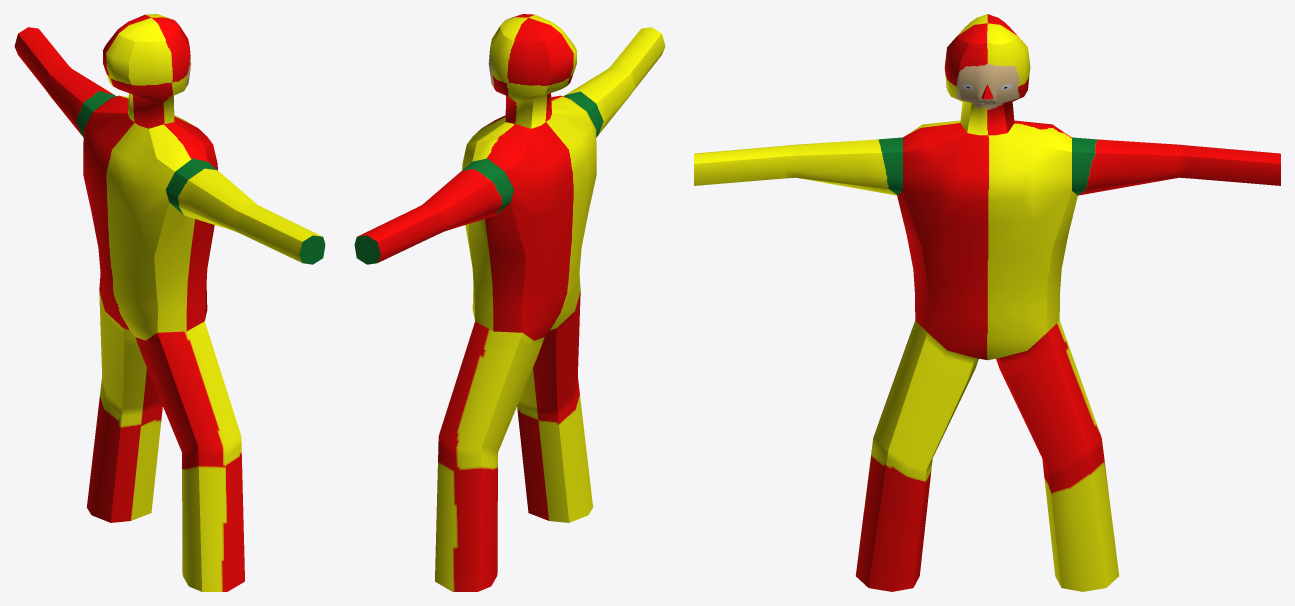
File: character1.fbx
3 views of the same model, side by side, from view 1: azimuth 30°, elevation 25°; view 2: azimuth 150°, elevation 25°; view 3: azimuth 270°, elevation 25° (orthographic). The views are drawn at different scales.
Parts seen in each view (by area): view 1: pCube1; view 2: pCube1; view 3: pCube1.
Part boxes in pixels (left/top/right/bottom): pCube1: left=14, top=14, right=325, bottom=591; pCube1: left=354, top=14, right=665, bottom=591; pCube1: left=694, top=14, right=1280, bottom=591.
Bounding box in the file's own units: 0.3566 × 1.85 × 1.8.
